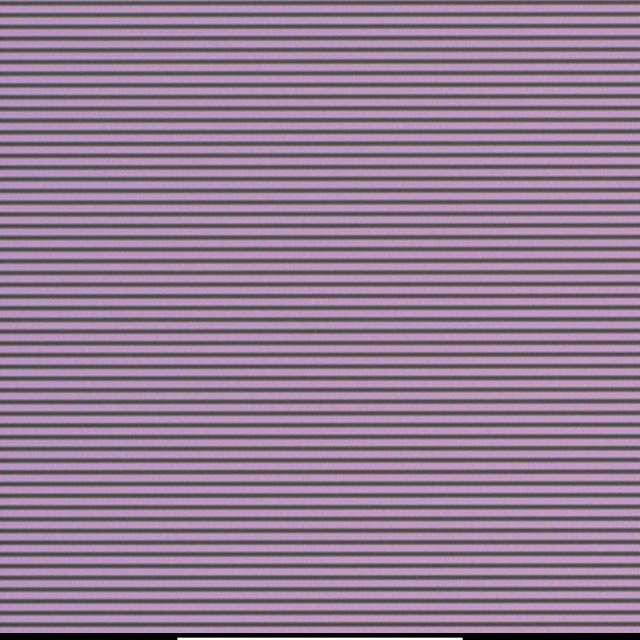03_intrusion: (310, 328, 318, 338)
